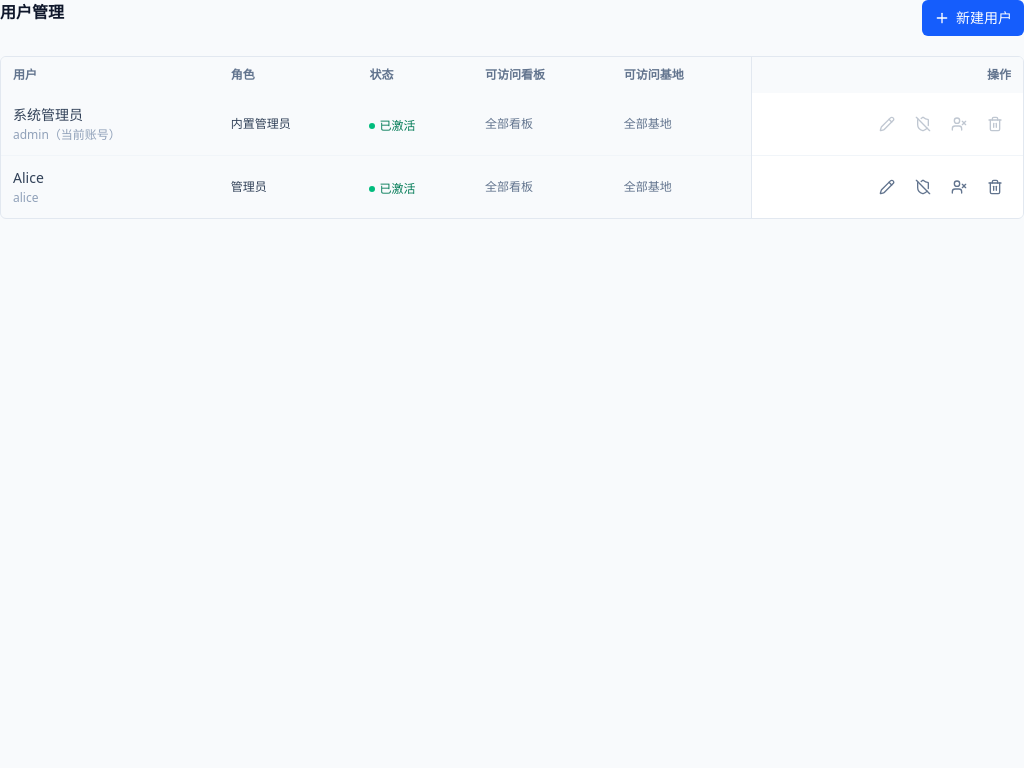
Test case: user administrator roles › does not overwrite stored dashboard permissions when demoting in the editor
Click the 2nd button named "编辑用户".
click(887, 187)  # box [871,171,903,203]
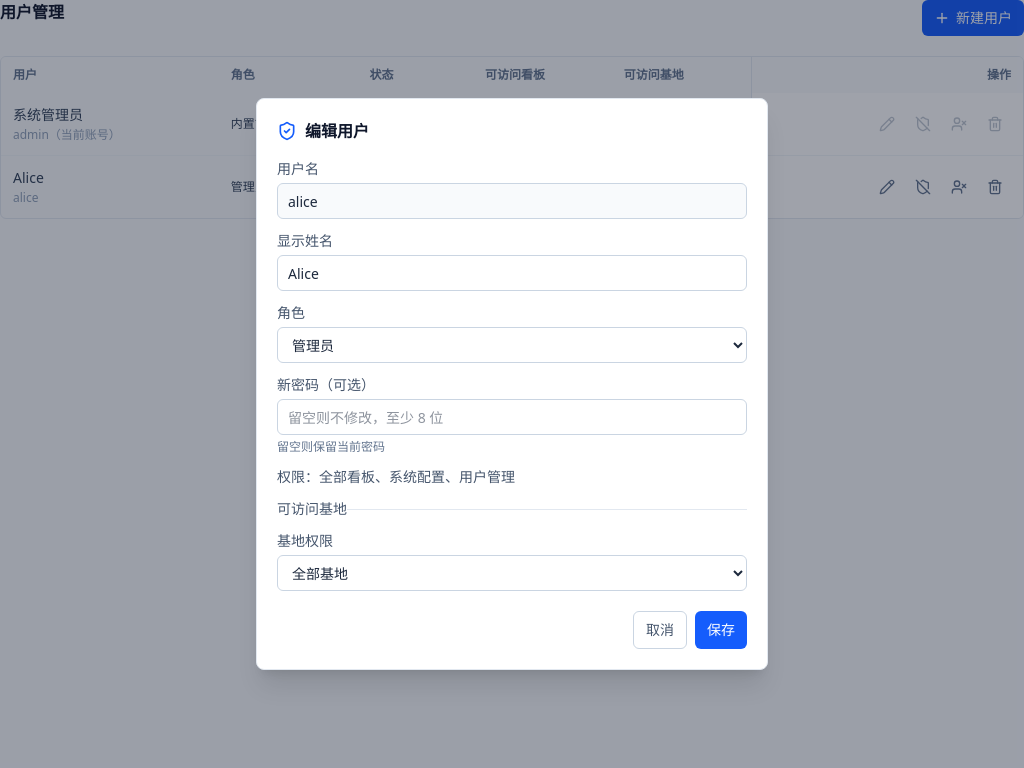
Select "普通用户" in the dropdown labelled "角色" at (512, 345), box [277,327,747,363]
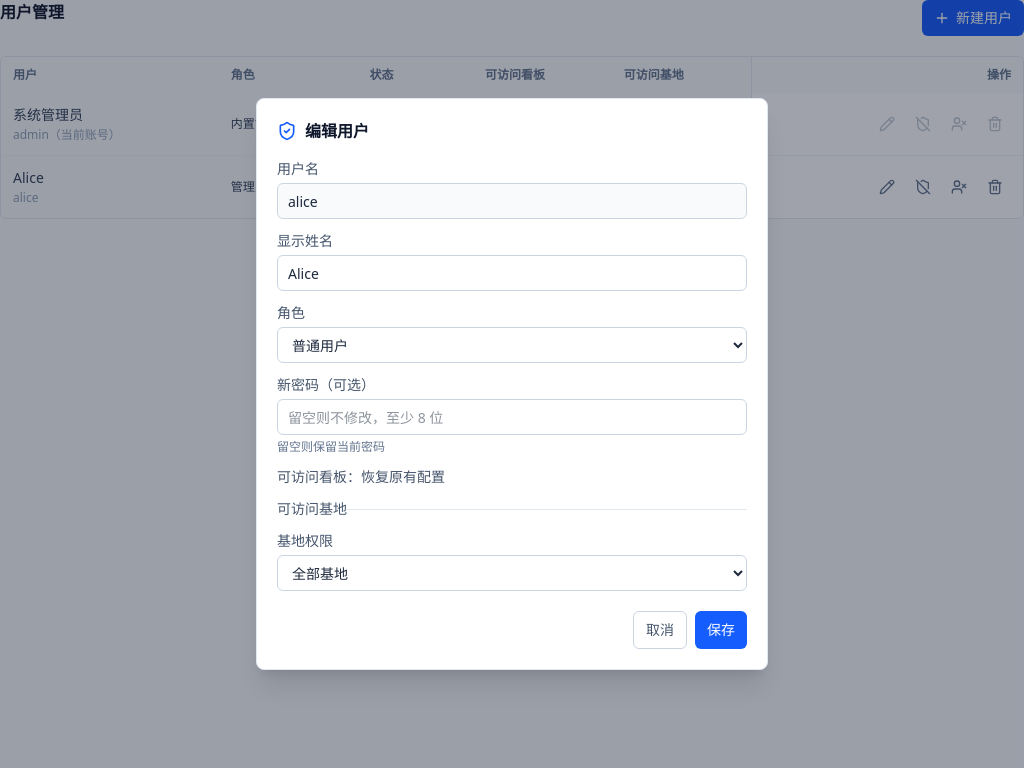
Click the button "保存".
click(721, 630)  # box [695,611,747,649]
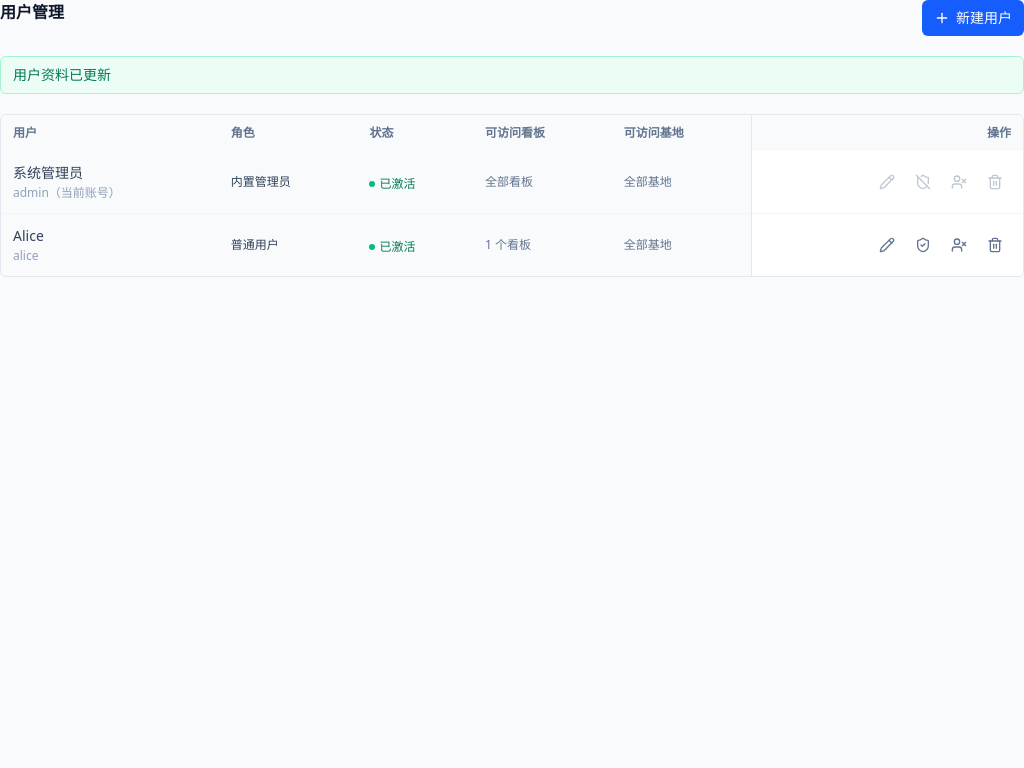
Result: the row "Alice alice 普通用户 已激活 1 个看板 全部基地" is shown at [1,214,1023,276]
